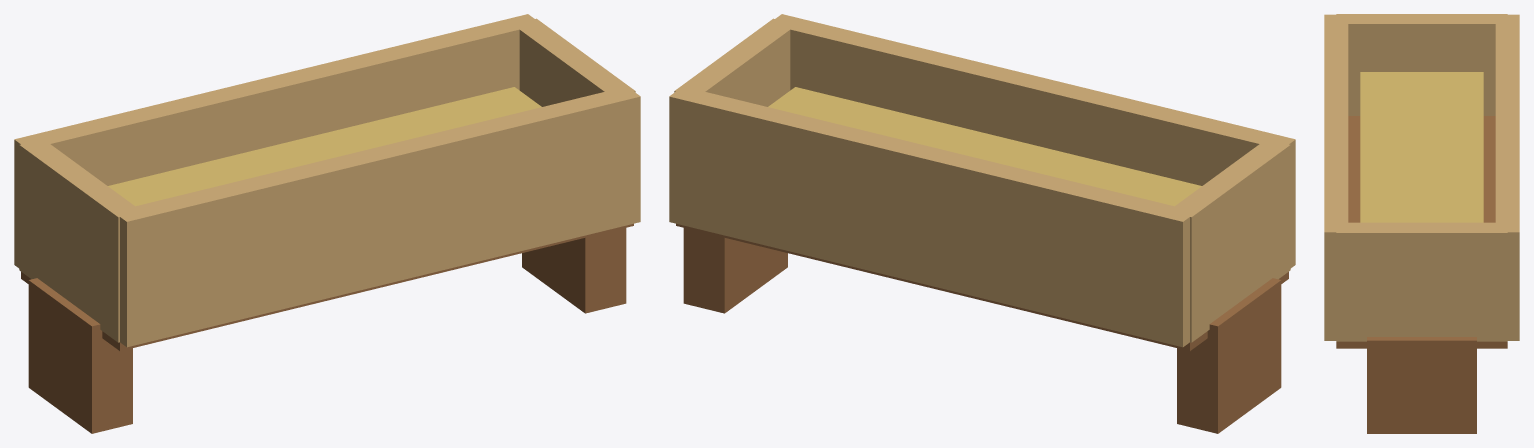
File: TR3_Animal_FeedingTrough.glb
The picture shows the model from 3 angles, left to right: view 1: azimuth 30°, elevation 25°; view 2: azimuth 150°, elevation 25°; view 3: azimuth 270°, elevation 25°; orthographic projection. The views are drawn at different scales.
Parts seen in each view (by area): view 1: TR3_Animal_FeedingTrough; view 2: TR3_Animal_FeedingTrough; view 3: TR3_Animal_FeedingTrough.
Boxes of the visible parts, x1,y1,x2,y2 form: TR3_Animal_FeedingTrough: (14,14,640,433); TR3_Animal_FeedingTrough: (669,14,1295,433); TR3_Animal_FeedingTrough: (1324,14,1519,433).
Size of the model in its own units: 1.56 by 0.635 by 0.57.
